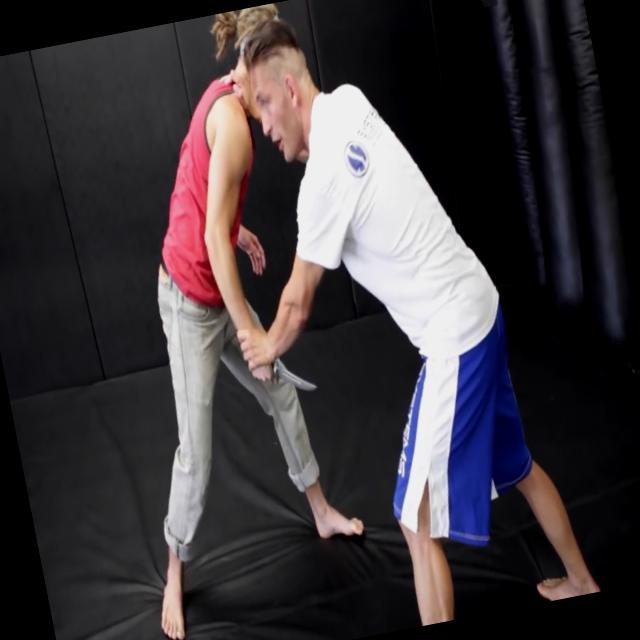knife: (240, 342, 324, 412)
